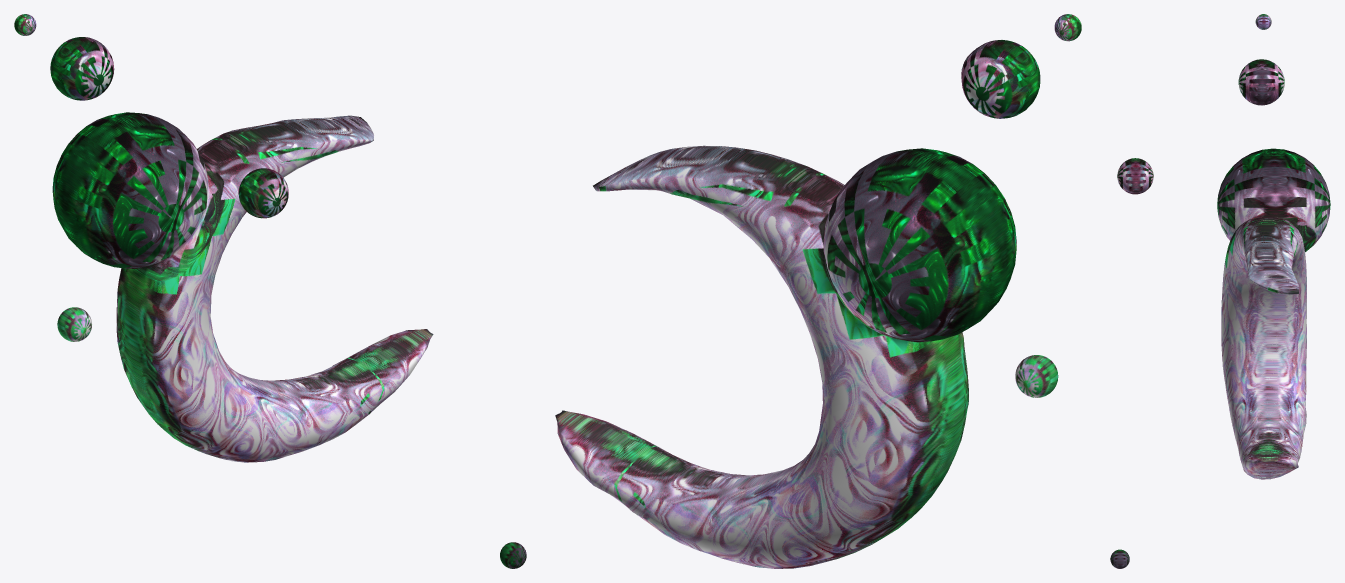
Rendered from nuka.gltf.
The picture shows the model from 3 angles, left to right: view 1: azimuth 30°, elevation 25°; view 2: azimuth 150°, elevation 25°; view 3: azimuth 270°, elevation 25°; orthographic projection. The views are drawn at different scales.
Parts seen in each view (by area): view 1: Sphere; view 2: Sphere; view 3: Sphere.
Part boxes in pixels (x1,y1,x2,y2): Sphere: (14, 14, 526, 568); Sphere: (555, 14, 1081, 568); Sphere: (1110, 14, 1330, 568).
Size of the model in its own units: 3.83 by 5.03 by 2.41.
1 material, 1 textured.
